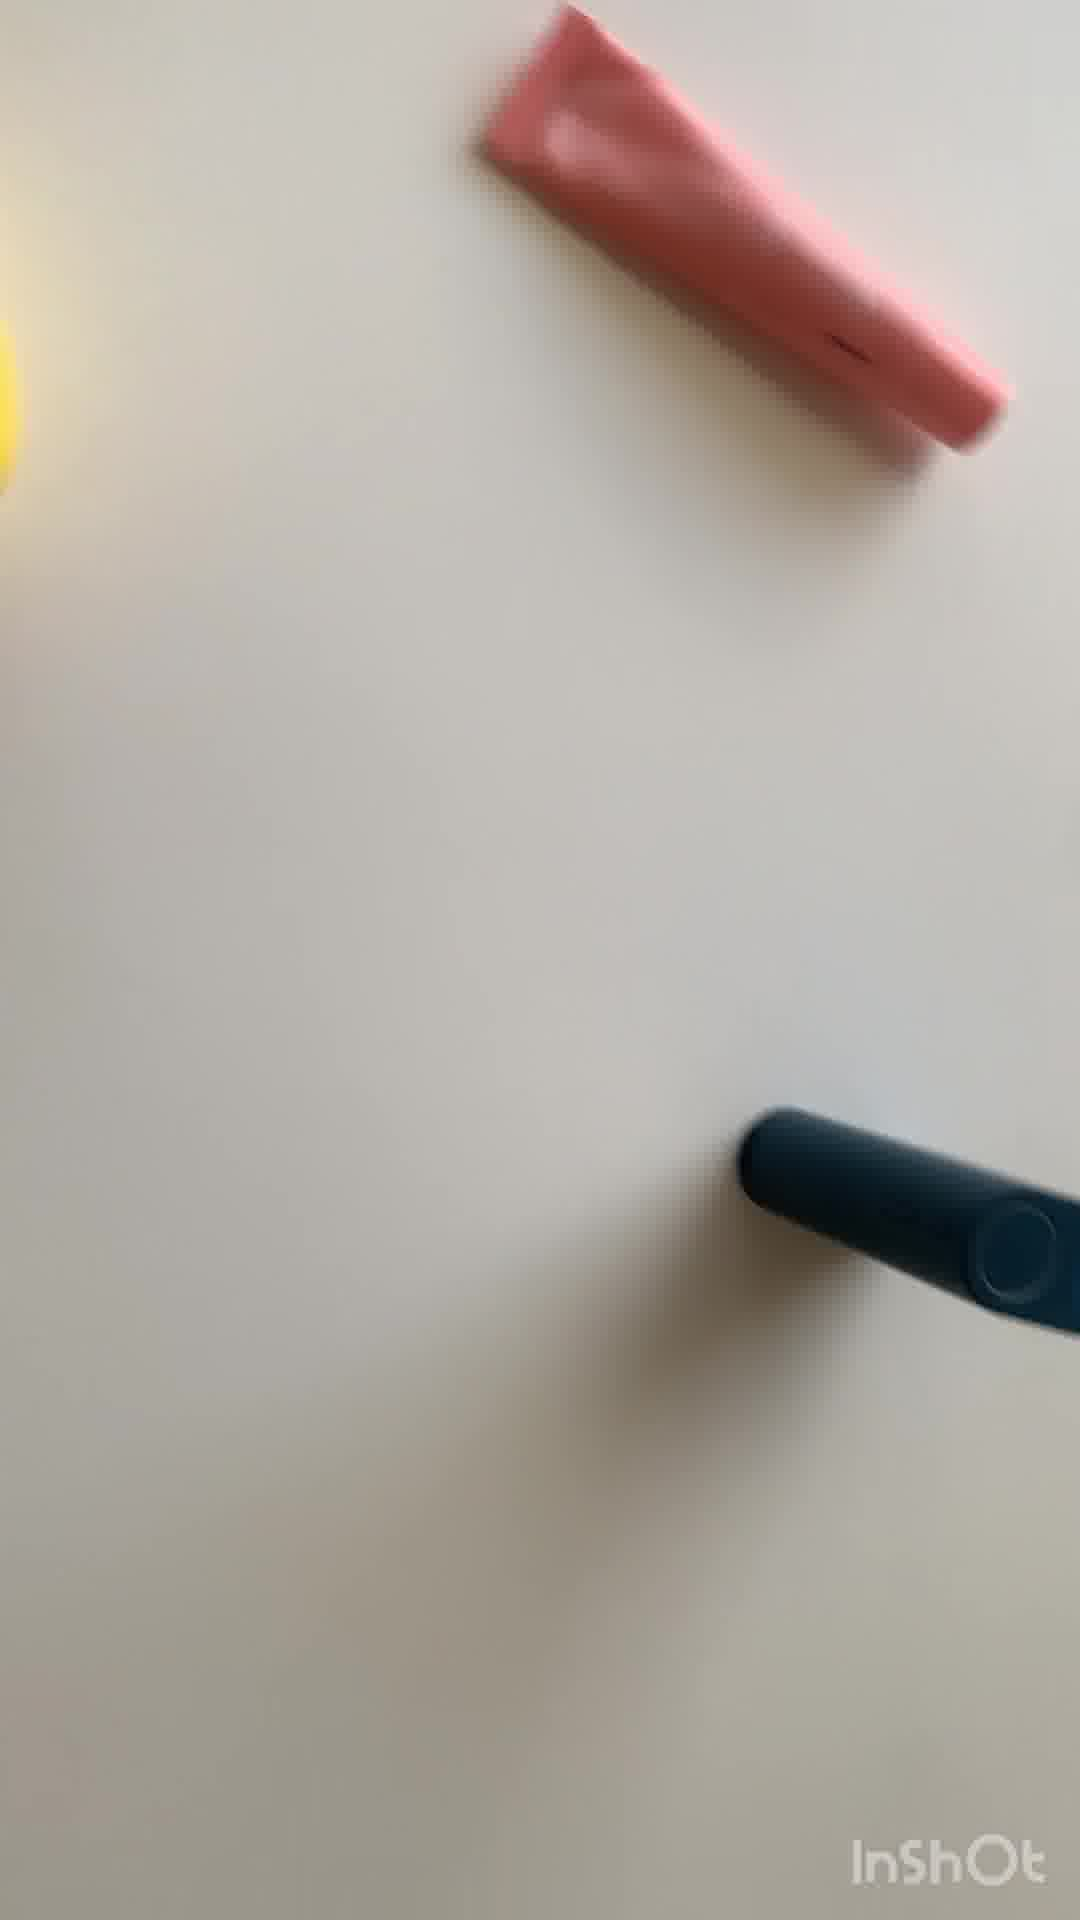glo: (727, 1098, 1080, 1346)
lip balm: (464, 11, 1026, 458)
